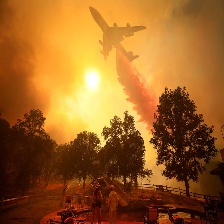smoke: (1, 5, 50, 124), (114, 52, 159, 119)
